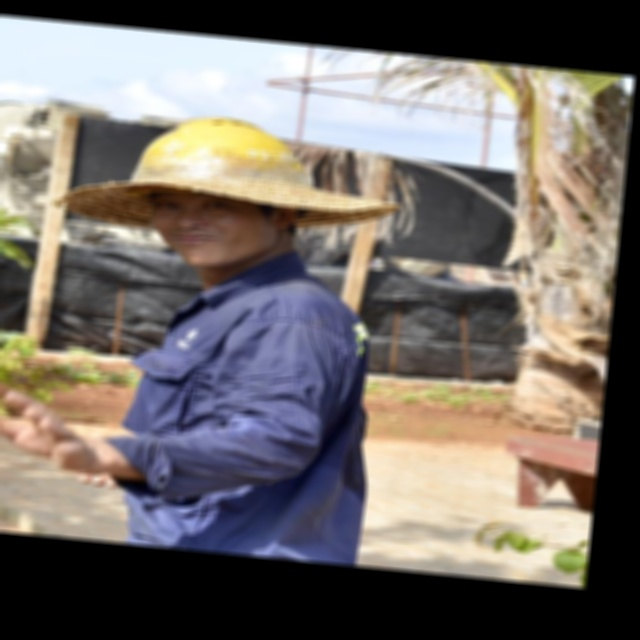Sin_Casco_Mascarrilla: (100, 98, 387, 287)
